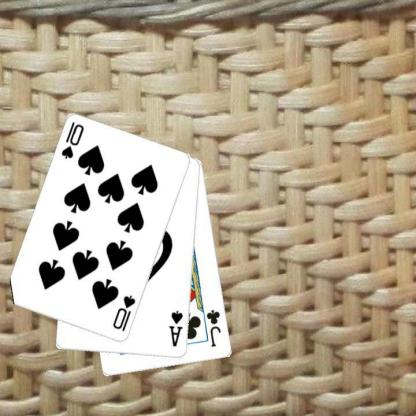10S: (110, 293, 137, 333), (59, 120, 85, 160)
AS: (166, 308, 184, 349)
JC: (204, 308, 222, 348)
